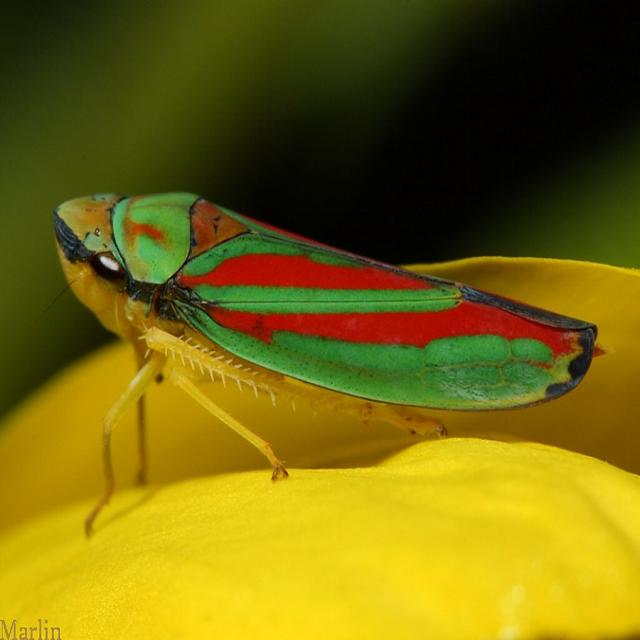Yechan: (24, 142, 614, 470)
